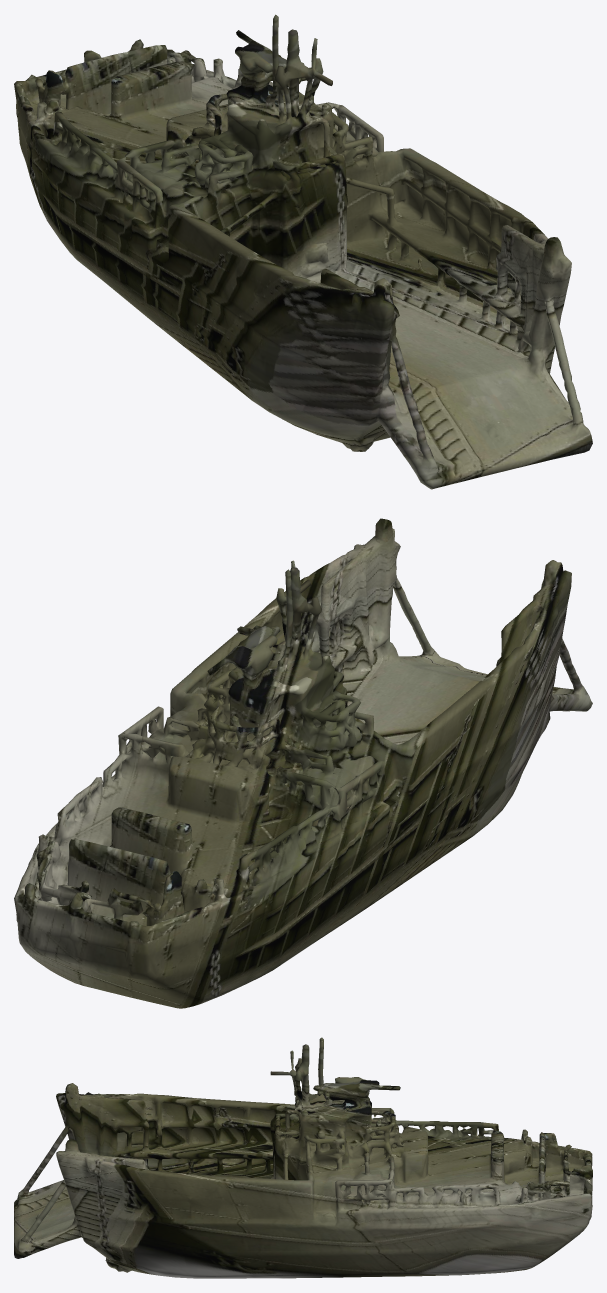
File: landing_craft.glb
The picture shows the model from 3 angles, top to bottom: view 1: azimuth 30°, elevation 25°; view 2: azimuth 150°, elevation 25°; view 3: azimuth 270°, elevation 25°; orthographic projection. The views are drawn at different scales.
Visible parts, largest first — view 1: geometry_0; view 2: geometry_0; view 3: geometry_0.
Boxes of the visible parts, <box> form: geometry_0: <box>14,14,592,489</box>; geometry_0: <box>14,518,592,1008</box>; geometry_0: <box>14,1037,592,1278</box>.
Size of the model in its own units: 0.6611 by 0.8043 by 1.99.
1 material, 1 textured.
